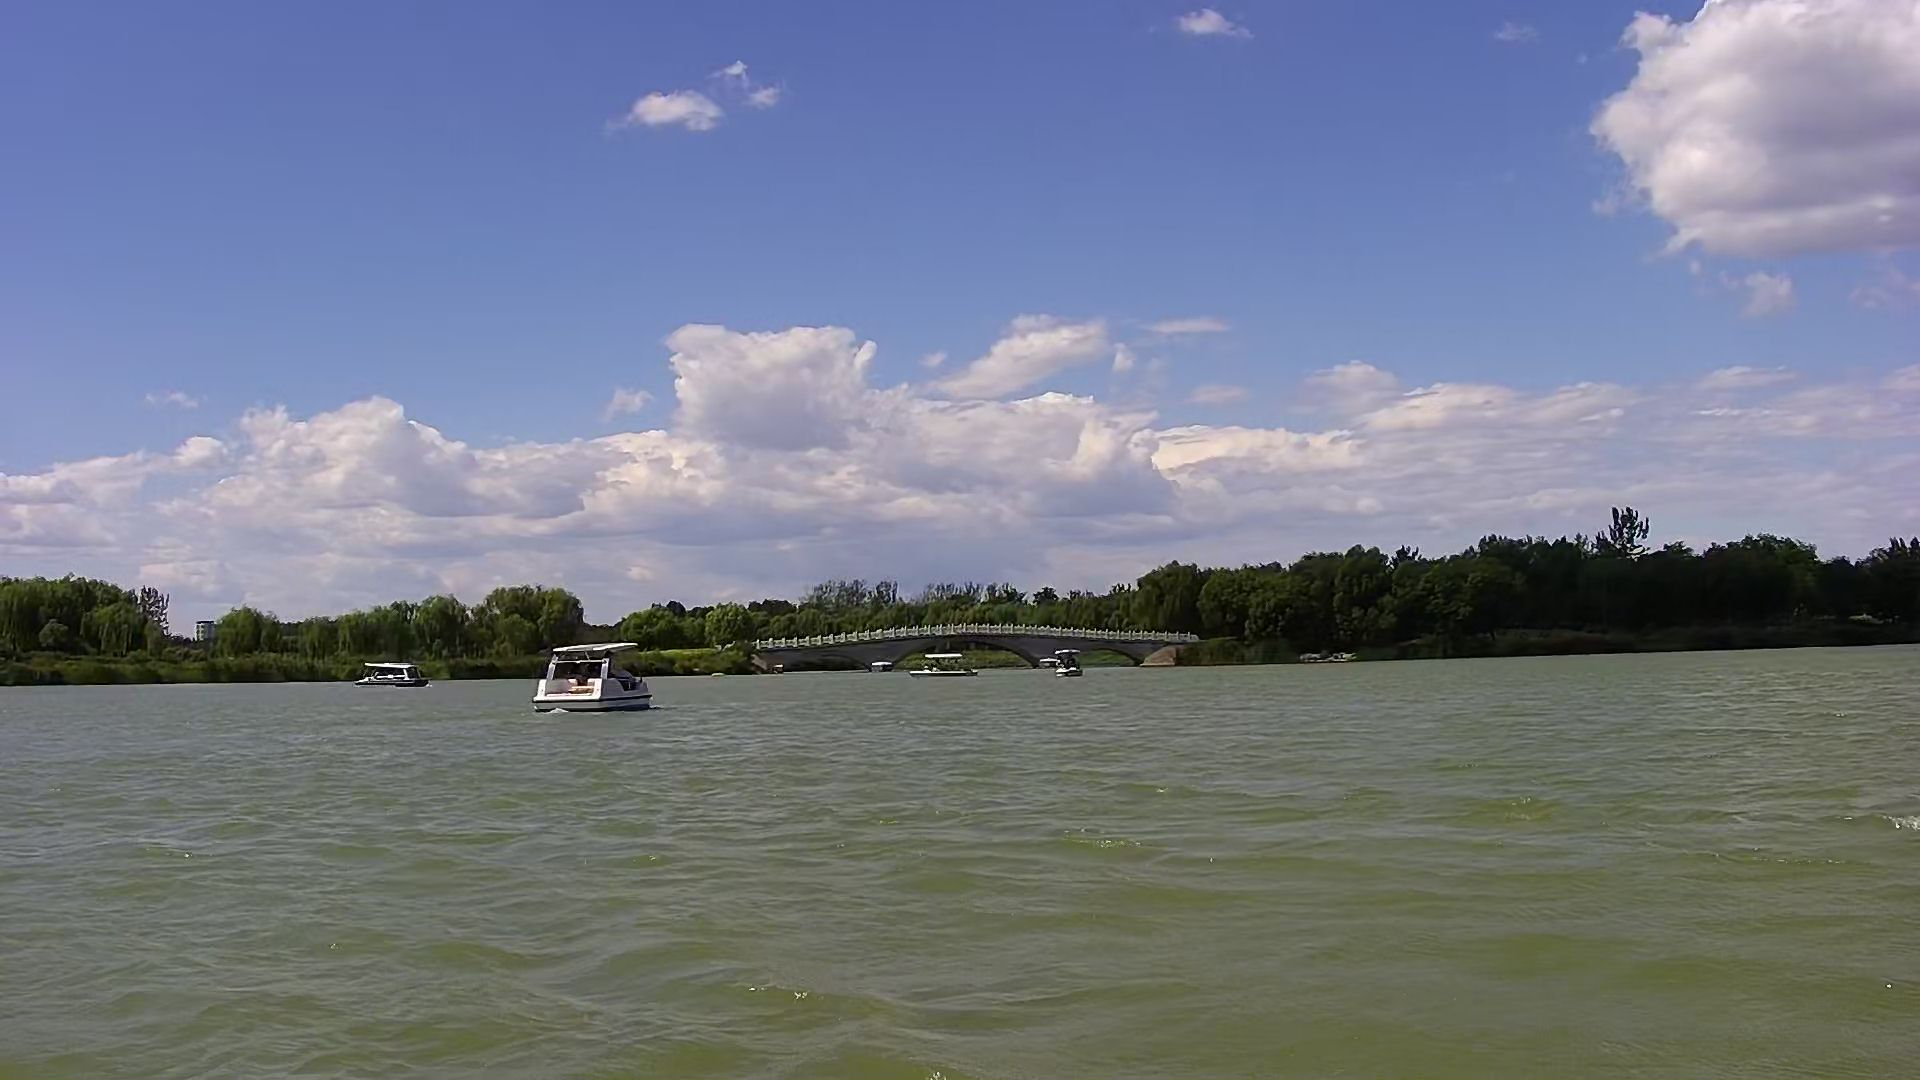boat: (533, 636, 651, 715), (909, 647, 980, 676), (355, 663, 436, 688), (1042, 645, 1083, 678)
bridge: (753, 613, 1179, 671)
